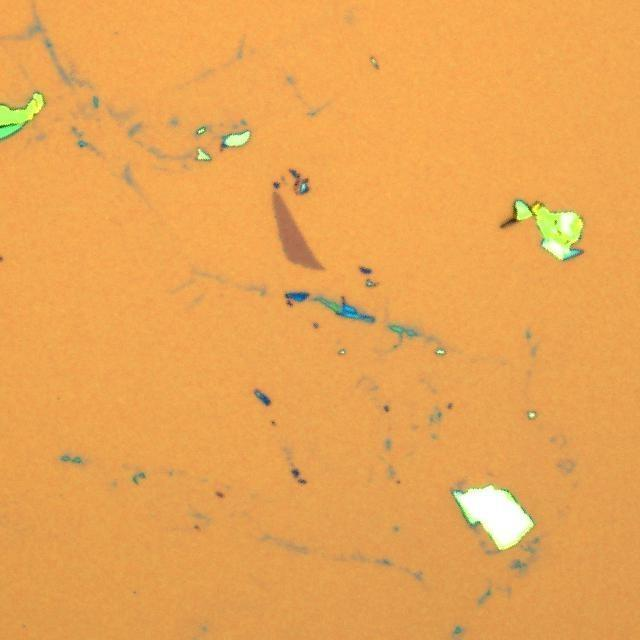monolayer-eWW4: (267, 185, 327, 272)
